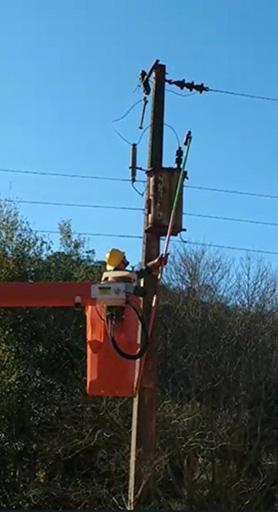Vara_Manobra: (134, 141, 189, 400)
